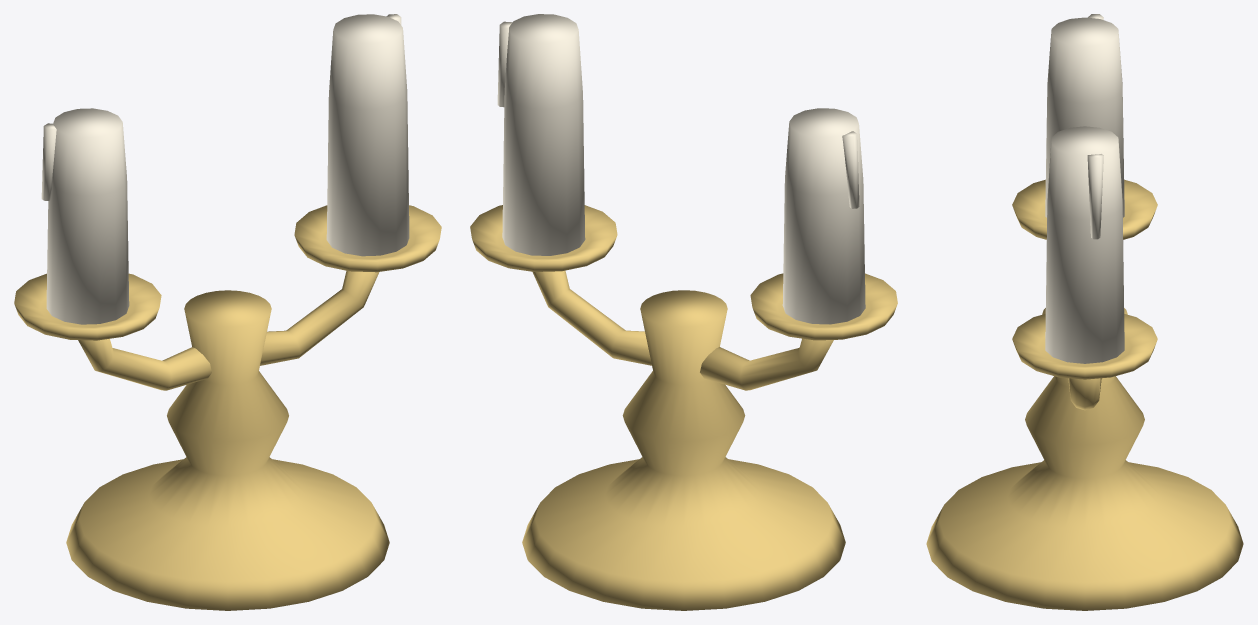
The model's file is candelabra.glb.
The picture shows the model from 3 angles, left to right: view 1: azimuth 30°, elevation 25°; view 2: azimuth 150°, elevation 25°; view 3: azimuth 270°, elevation 25°; orthographic projection. The views are drawn at different scales.
Parts seen in each view (by area): view 1: CandelabraStem, CandWax_R, CandWax_L, CandCup_L, CandCup_R, CandArm_R, CandArm_L, WaxDripC_L; view 2: CandelabraStem, CandWax_R, CandWax_L, CandCup_R, CandCup_L, CandArm_R, CandArm_L, WaxDripC_L, WaxDripC_R; view 3: CandelabraStem, CandWax_R, CandWax_L, CandCup_R, CandCup_L, WaxDripC_R, CandArm_R.
Part boxes in pixels (left/top/right/bottom): CandelabraStem: left=66, top=290, right=389, bottom=610; CandWax_R: left=326, top=14, right=409, bottom=256; CandWax_L: left=46, top=108, right=129, bottom=324; CandCup_L: left=14, top=273, right=161, bottom=340; CandCup_R: left=294, top=205, right=441, bottom=272; CandArm_R: left=260, top=270, right=379, bottom=365; CandArm_L: left=78, top=338, right=211, bottom=390; WaxDripC_L: left=41, top=123, right=56, bottom=200; CandelabraStem: left=522, top=290, right=845, bottom=610; CandWax_R: left=502, top=14, right=585, bottom=255; CandWax_L: left=782, top=108, right=865, bottom=324; CandCup_R: left=470, top=205, right=617, bottom=271; CandCup_L: left=750, top=273, right=897, bottom=340; CandArm_R: left=532, top=270, right=651, bottom=365; CandArm_L: left=700, top=338, right=833, bottom=390; WaxDripC_L: left=842, top=131, right=859, bottom=208; WaxDripC_R: left=497, top=21, right=512, bottom=107; CandelabraStem: left=926, top=308, right=1243, bottom=610; CandWax_R: left=1045, top=126, right=1124, bottom=363; CandWax_L: left=1045, top=17, right=1124, bottom=217; CandCup_R: left=1012, top=314, right=1157, bottom=379; CandCup_L: left=1012, top=179, right=1157, bottom=239; WaxDripC_R: left=1087, top=154, right=1103, bottom=239; CandArm_R: left=1068, top=378, right=1101, bottom=410.
Bounding box in the file's own units: 0.216 × 0.2422 × 0.148.
